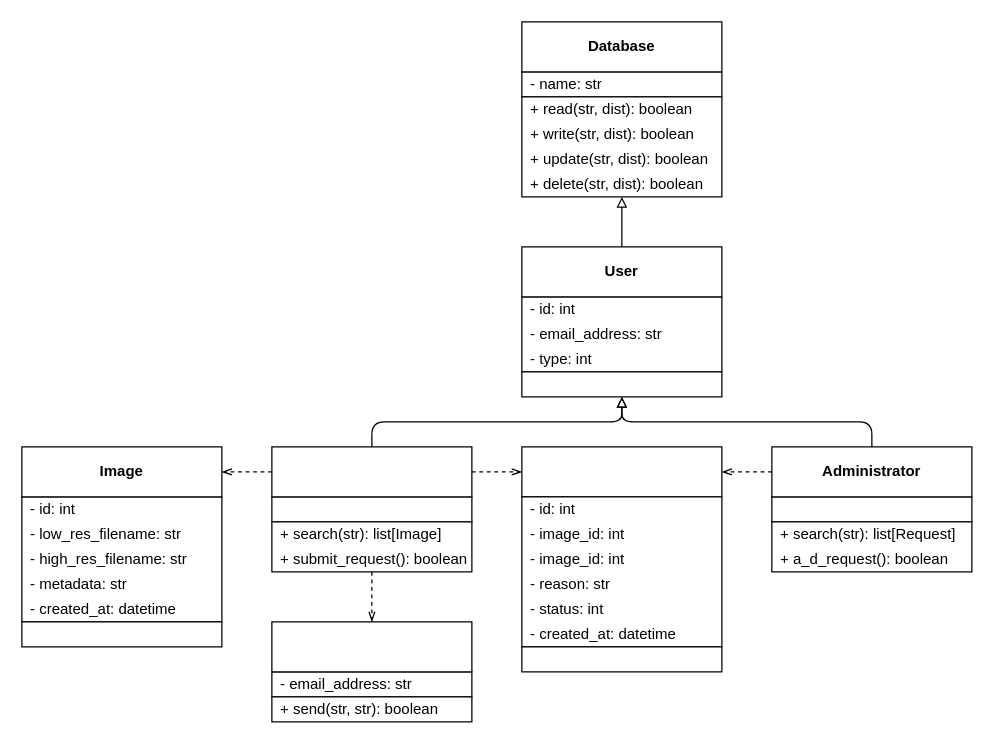
The diagram is 994 pixels wide and 744 high, and some of its shapes have lost their labels. Here are the shapes that lost their labels. From the top down, the centre of each, then its label:
the point at 371,471: Guest
the point at 621,471: Request
the point at 371,646: Gmail
